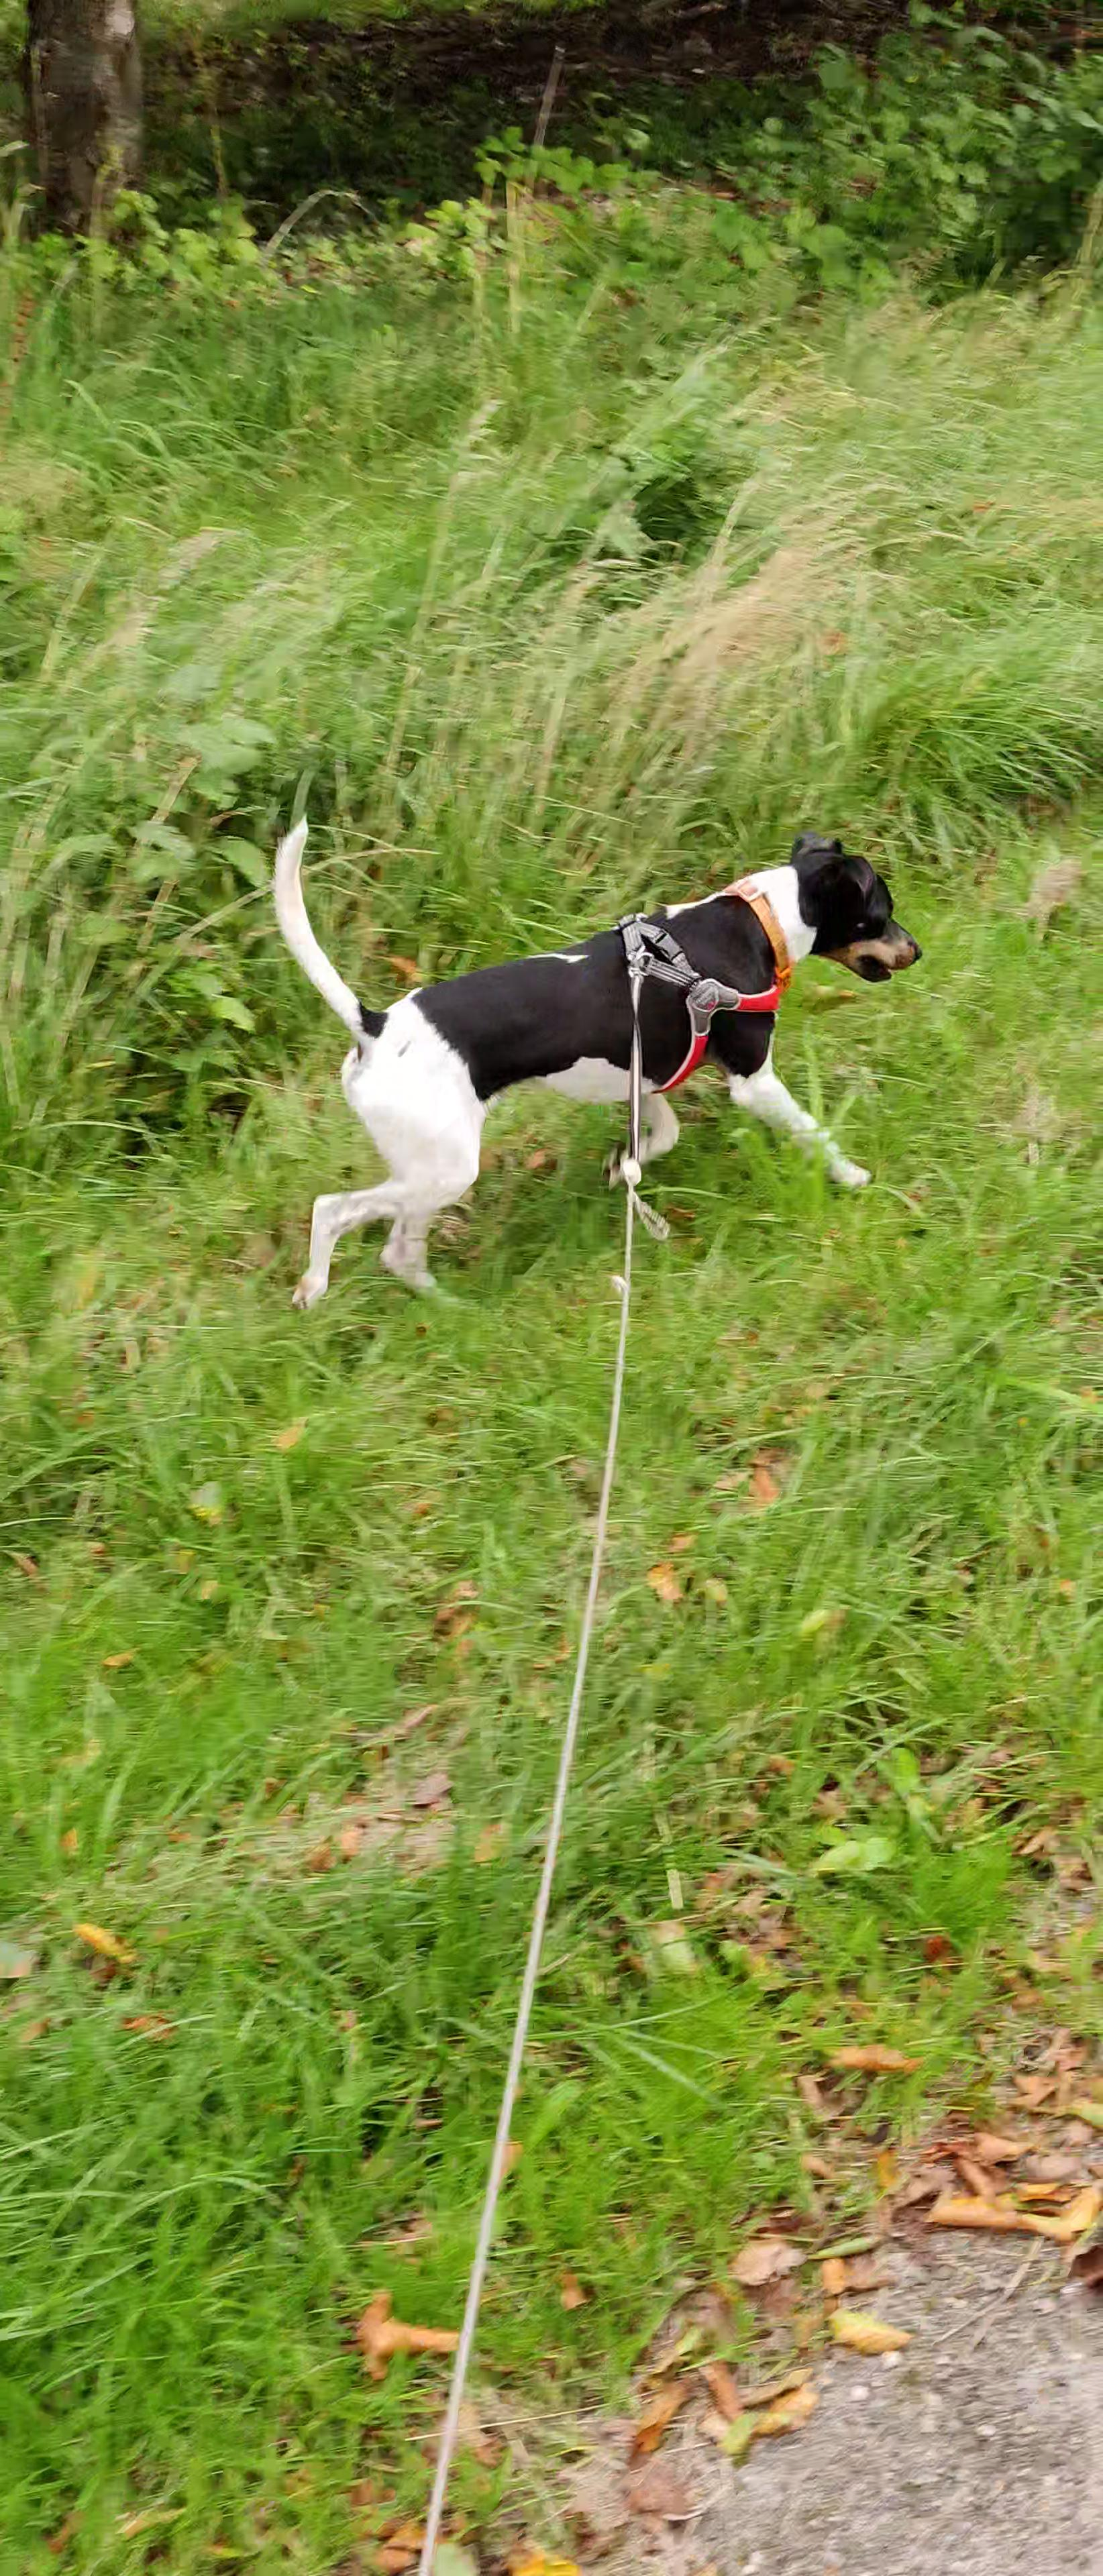Dog: (256, 815, 930, 1314)
